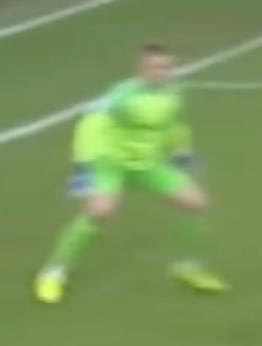goalkeeper: (30, 21, 256, 306)
